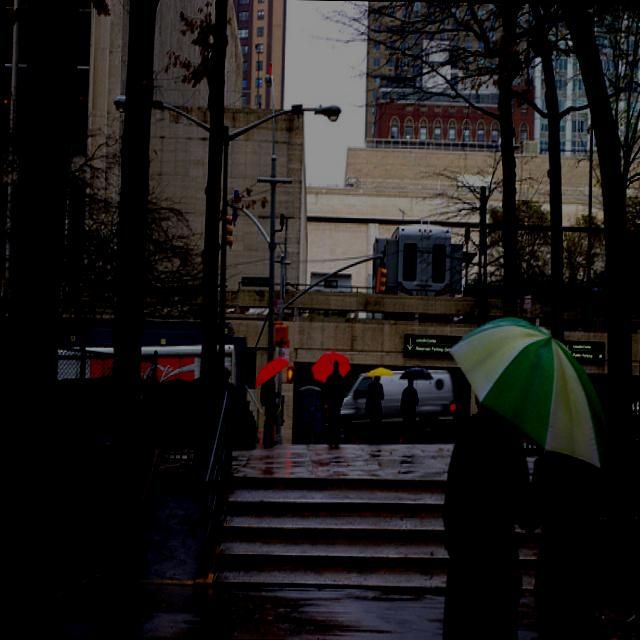Vehicle: (320, 366, 465, 444), (52, 339, 235, 389)
